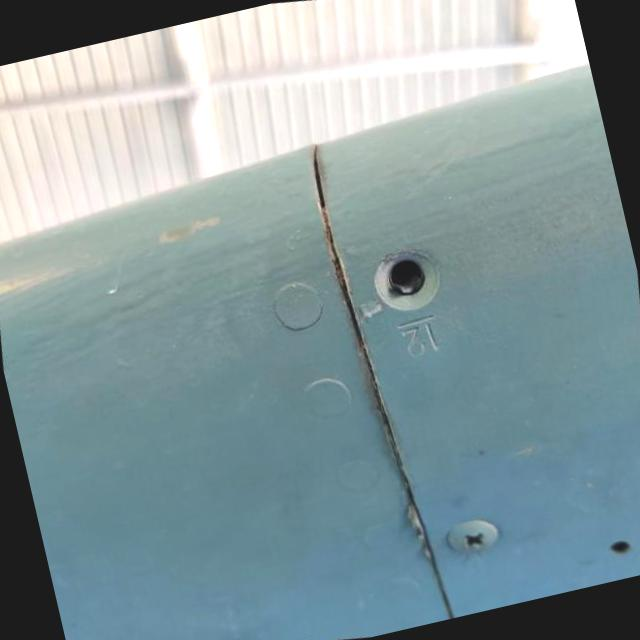Missing Fastener: (365, 238, 455, 322), (606, 525, 640, 565)
